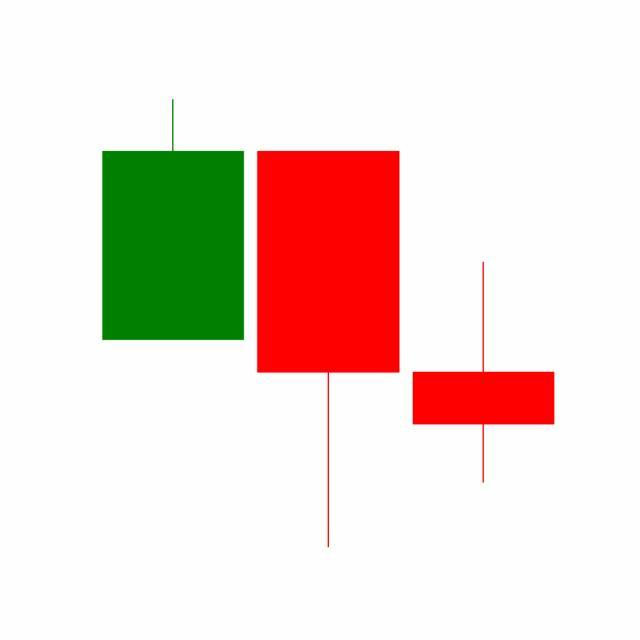Spinning Top: (406, 260, 562, 486)
